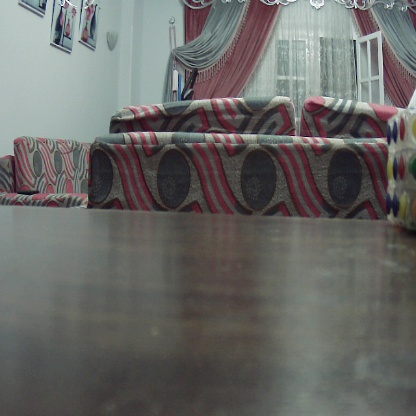Rubix Cube: (387, 112, 416, 232)
